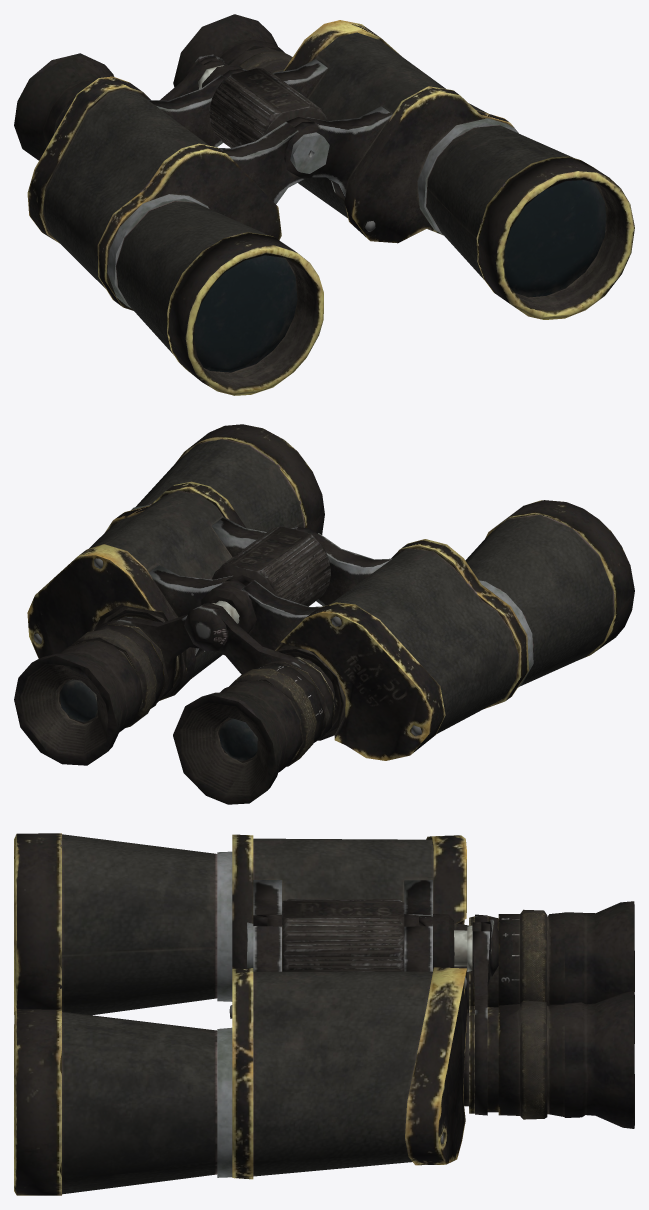
The model's file is vintage_binocular.glb.
3 renders of one model, top to bottom at view 1: azimuth 30°, elevation 25°; view 2: azimuth 150°, elevation 25°; view 3: azimuth 270°, elevation 25°, orthographic. The views are drawn at different scales.
Parts seen in each view (by area): view 1: vintage_binocular_right_prism, vintage_binocular_left_prism, vintage_binocular_right_lens, vintage_binocular_focus, vintage_binocular_left_lens, vintage_binocular_middle; view 2: vintage_binocular_right_prism, vintage_binocular_left_prism, vintage_binocular_left_lens, vintage_binocular_right_lens, vintage_binocular_focus, vintage_binocular_diopter, vintage_binocular_eye_relief, vintage_binocular_middle; view 3: vintage_binocular_left_prism, vintage_binocular_right_prism, vintage_binocular_left_lens, vintage_binocular_right_lens, vintage_binocular_focus, vintage_binocular_diopter, vintage_binocular_middle, vintage_binocular_eye_relief.
Boxes of the visible parts, <box> form: vintage_binocular_right_prism: <box>27,74,323,395</box>; vintage_binocular_left_prism: <box>223,20,634,319</box>; vintage_binocular_right_lens: <box>14,53,225,160</box>; vintage_binocular_focus: <box>209,68,328,147</box>; vintage_binocular_left_lens: <box>173,14,292,87</box>; vintage_binocular_middle: <box>202,64,329,173</box>; vintage_binocular_right_prism: <box>228,500,634,760</box>; vintage_binocular_left_prism: <box>27,424,324,700</box>; vintage_binocular_left_lens: <box>14,603,218,765</box>; vintage_binocular_right_lens: <box>173,602,336,804</box>; vintage_binocular_focus: <box>212,526,330,606</box>; vintage_binocular_diopter: <box>229,662,324,766</box>; vintage_binocular_eye_relief: <box>184,600,239,650</box>; vintage_binocular_middle: <box>201,583,256,633</box>; vintage_binocular_left_prism: <box>14,917,467,1195</box>; vintage_binocular_right_prism: <box>14,833,466,1018</box>; vintage_binocular_left_lens: <box>464,922,634,1128</box>; vintage_binocular_right_lens: <box>456,901,634,1012</box>; vintage_binocular_focus: <box>282,899,404,971</box>; vintage_binocular_diopter: <box>498,909,547,1005</box>; vintage_binocular_middle: <box>247,914,454,970</box>; vintage_binocular_eye_relief: <box>454,919,498,976</box>.
Bounding box in the file's own units: 0.1941 × 0.0688 × 0.1994.
Materials: 1 (1 with a texture image).
